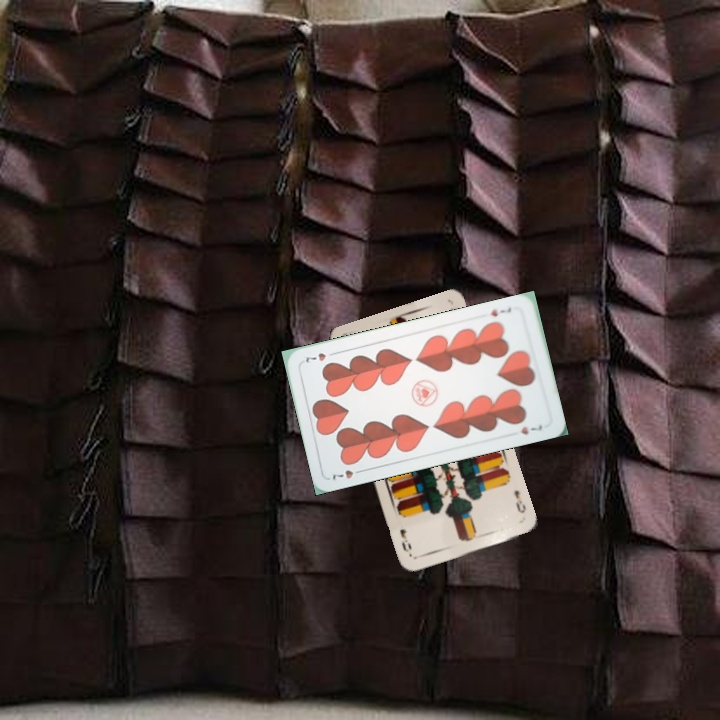E9: (510, 486, 528, 516)
H7: (328, 465, 367, 483), (487, 303, 514, 319)
